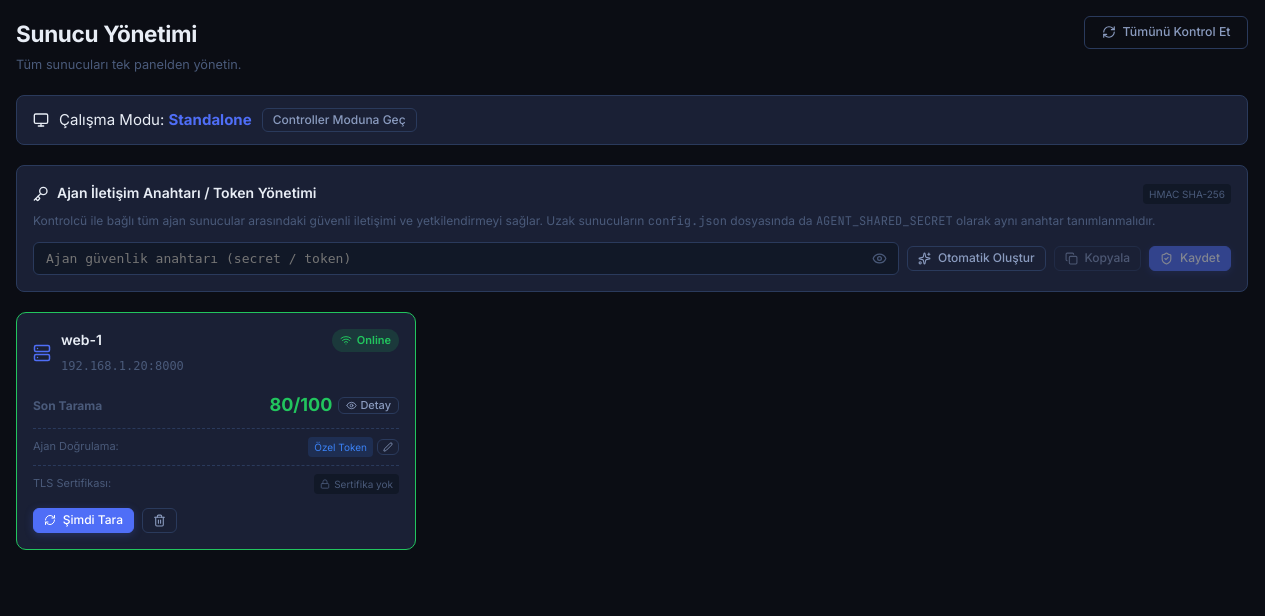
ServerManagement sunucu token'ı düzenleme › boş bırakılıp kaydedilince istek atmaz, token korunur
Click the button titled "Sunucu token'ını düzenle".
click(388, 447)  # box [377,439,399,455]
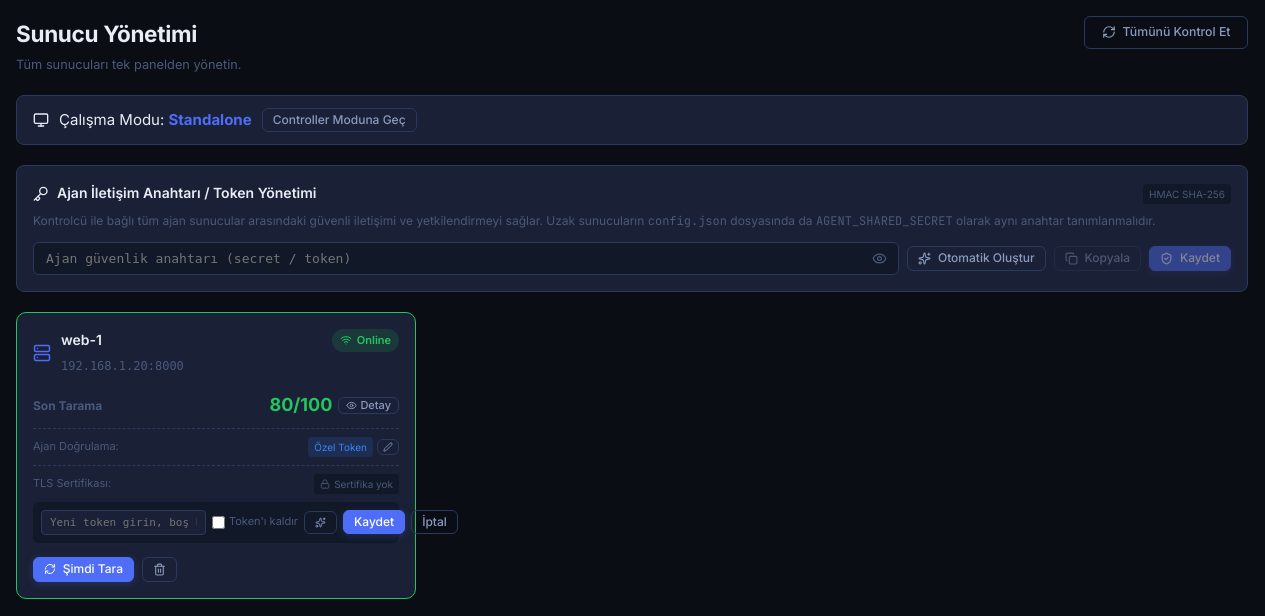
Click the button titled "Token'ı kaydet" next to "Token'ı kaldır".
click(374, 522)  # box [343,510,405,534]
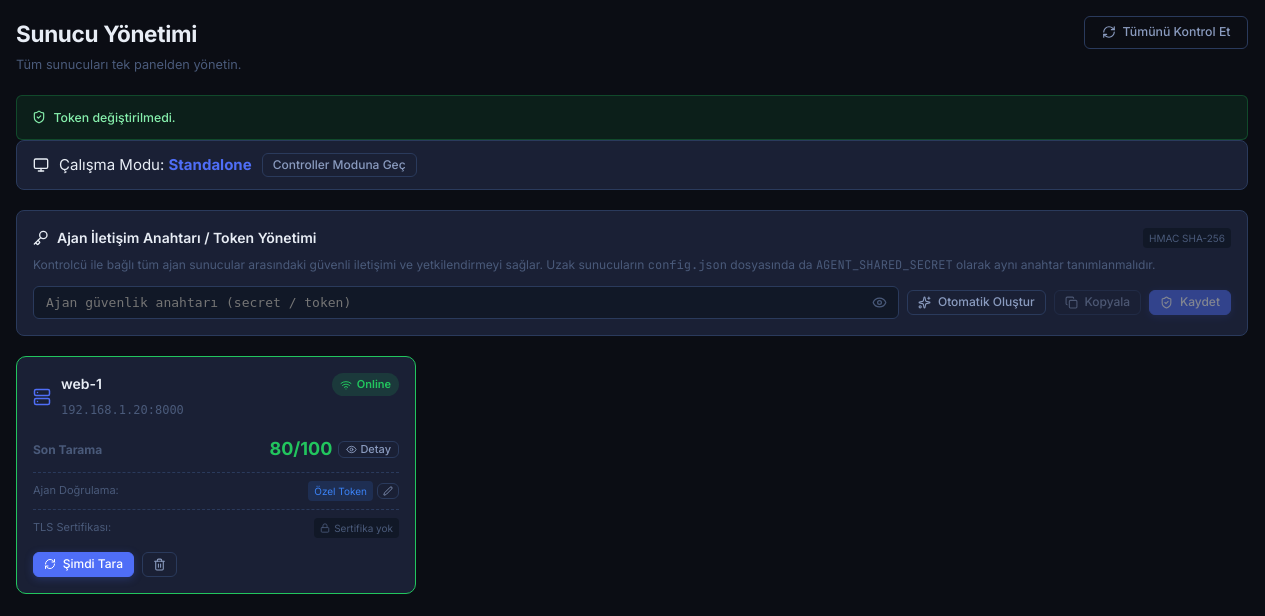
Expected: the text "Özel Token" is shown, [308,481,373,501]
Expected: the text "Token değiştirilmedi." is shown, [16,95,1248,140]
